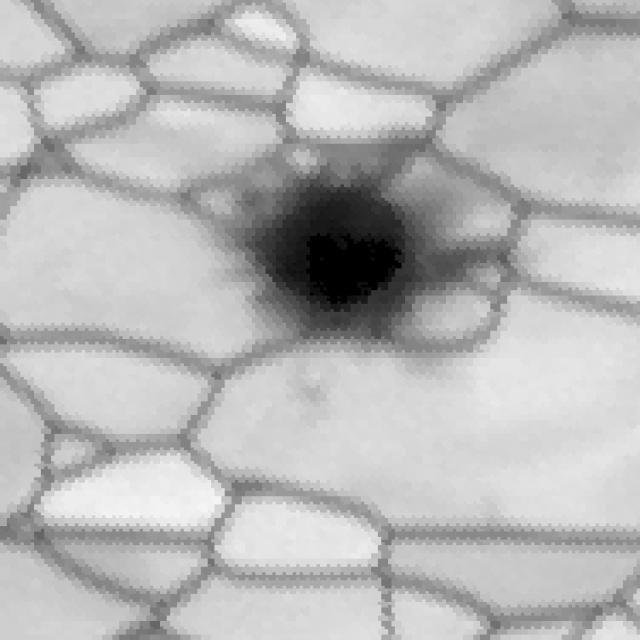good_void: (166, 130, 548, 401)
